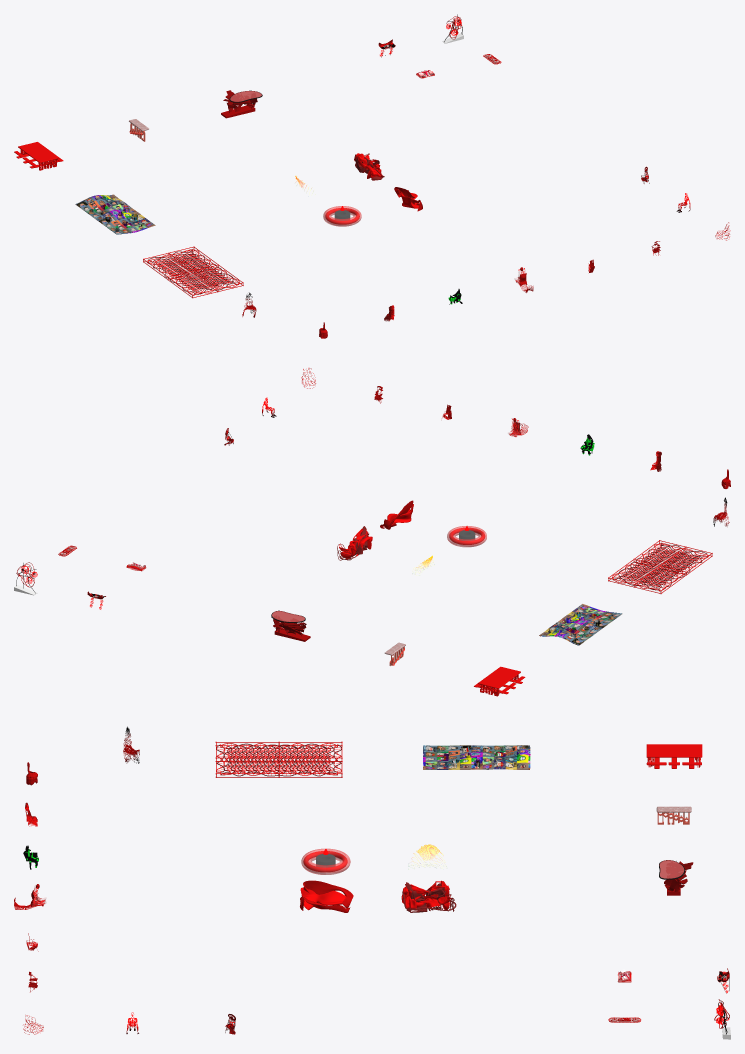
The picture shows the model from 3 angles, top to bottom: view 1: azimuth 30°, elevation 25°; view 2: azimuth 150°, elevation 25°; view 3: azimuth 270°, elevation 25°; orthographic projection. The views are drawn at different scales.
Visible parts, largest first — view 1: 4.002, spooky-davinci-carpet, BoardROOMTABLE- RED, Mesh_3.001, Torus.002, Merged Objects 2.002; view 2: 4.002, spooky-davinci-carpet, BoardROOMTABLE- RED, Mesh_3.001, Torus.002, Merged Objects 2.002; view 3: 4.002, spooky-davinci-carpet, Merged Objects.002, Merged Objects 2.002, BoardROOMTABLE- RED, Torus.002, Mesh_3.001, Box.002.
Boxes of the visible parts, <box> form: 4.002: <box>143,246,243,298</box>; spooky-davinci-carpet: <box>75,194,155,234</box>; BoardROOMTABLE- RED: <box>14,142,63,170</box>; Mesh_3.001: <box>221,90,262,118</box>; Torus.002: <box>323,206,361,226</box>; Merged Objects 2.002: <box>354,153,384,180</box>; 4.002: <box>608,540,712,593</box>; spooky-davinci-carpet: <box>539,604,622,645</box>; BoardROOMTABLE- RED: <box>474,666,525,696</box>; Mesh_3.001: <box>271,610,310,641</box>; Torus.002: <box>447,525,486,547</box>; Merged Objects 2.002: <box>337,526,372,560</box>; 4.002: <box>215,741,342,777</box>; spooky-davinci-carpet: <box>423,745,530,769</box>; Merged Objects.002: <box>300,880,353,912</box>; Merged Objects 2.002: <box>401,880,456,912</box>; BoardROOMTABLE- RED: <box>646,744,702,768</box>; Torus.002: <box>301,848,350,874</box>; Mesh_3.001: <box>659,860,693,895</box>; Box.002: <box>656,806,691,824</box>.
Size of the model in its own units: 37.94 by 2.1 by 39.18.
63 materials, 20 textured.
